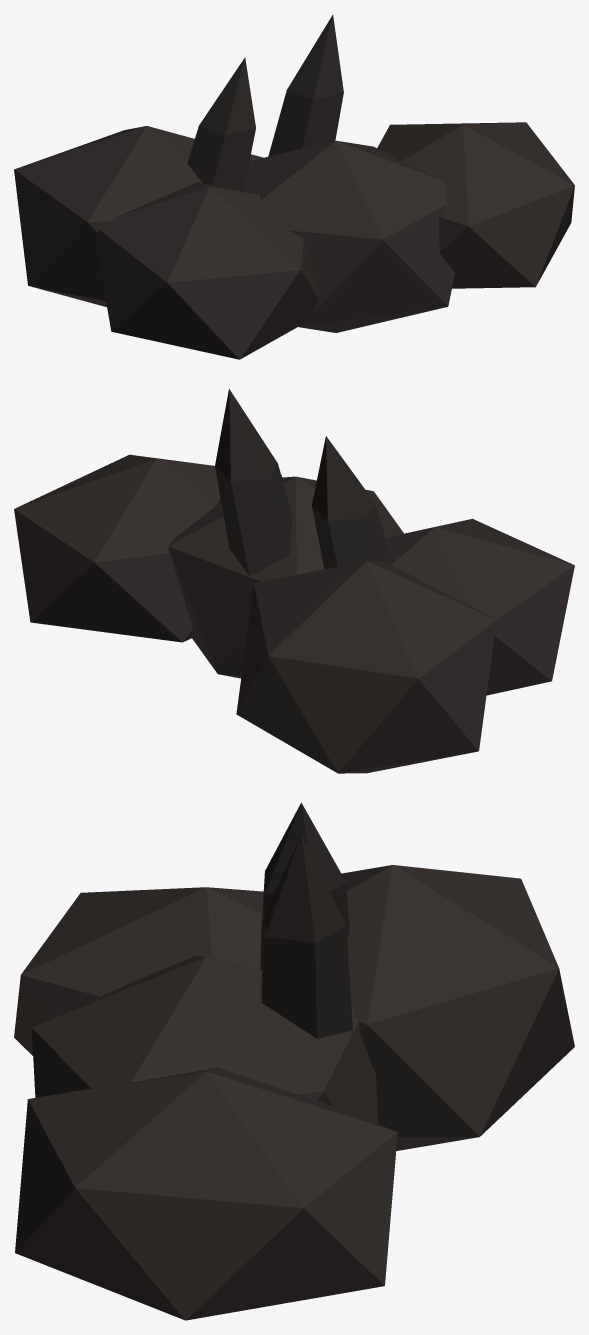
Rendered from RimRock_A.fbx.
3 renders of one model, top to bottom at view 1: azimuth 30°, elevation 25°; view 2: azimuth 150°, elevation 25°; view 3: azimuth 270°, elevation 25°, orthographic. The views are drawn at different scales.
Visible parts, largest first — view 1: RimRock_A; view 2: RimRock_A; view 3: RimRock_A.
Boxes of the visible parts, x1,y1,x2,y2 form: RimRock_A: (14, 15, 574, 359); RimRock_A: (14, 389, 574, 773); RimRock_A: (14, 802, 574, 1320).
Size of the model in its own units: 2.28 by 1.35 by 1.6.
1 material, 1 textured.
